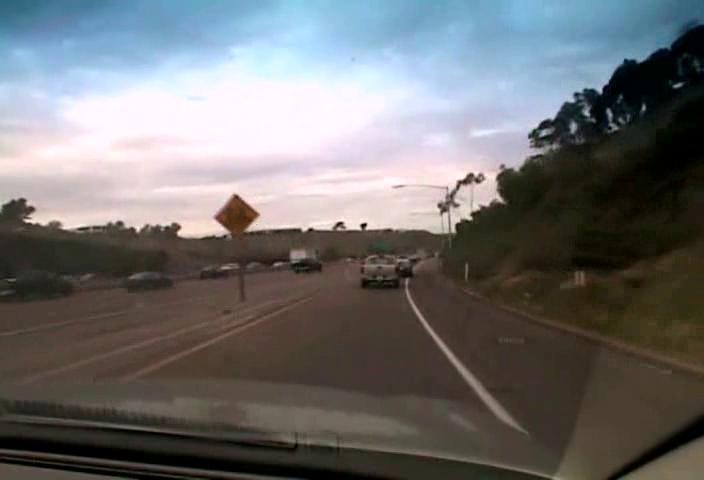addedLane: (212, 192, 260, 237)
